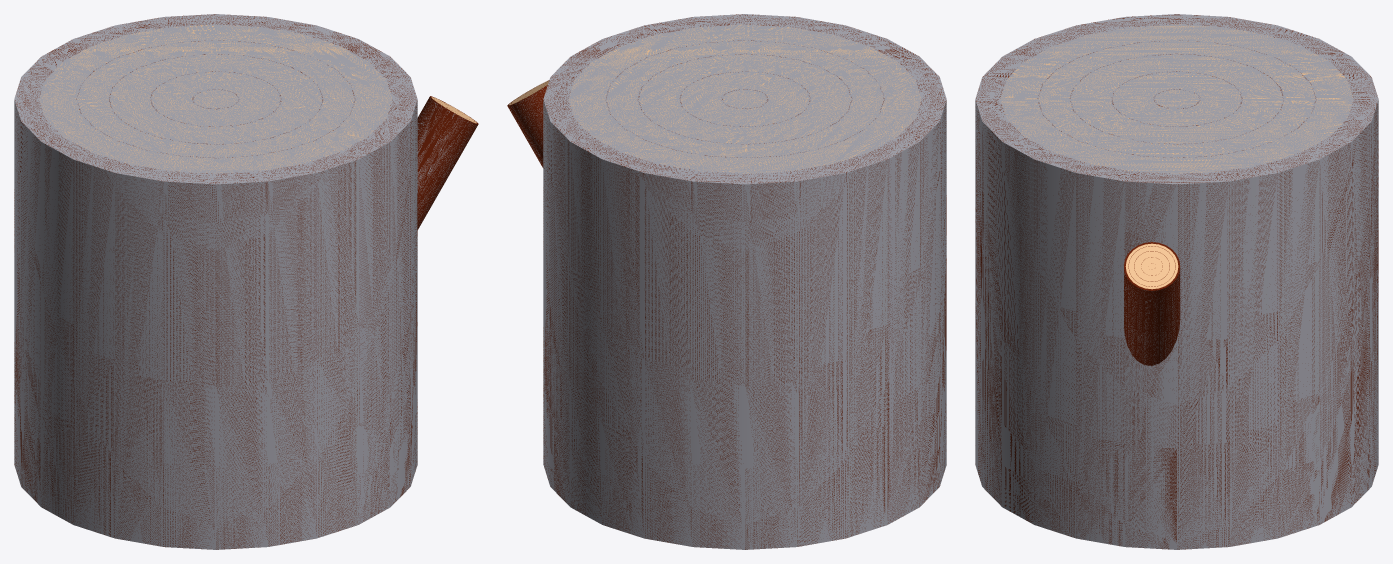
The picture shows the model from 3 angles, left to right: view 1: azimuth 30°, elevation 25°; view 2: azimuth 150°, elevation 25°; view 3: azimuth 270°, elevation 25°; orthographic projection.
Visible parts, largest first — view 1: group_0 (×9); view 2: group_0 (×9); view 3: group_0 (×11).
Part boxes in pixels (x1,y1,x2,y2): group_0 (×9): [14, 14, 478, 549]; group_0 (×9): [507, 14, 946, 549]; group_0 (×11): [975, 14, 1378, 549].
Size of the model in its own units: 474 by 394 by 394.
